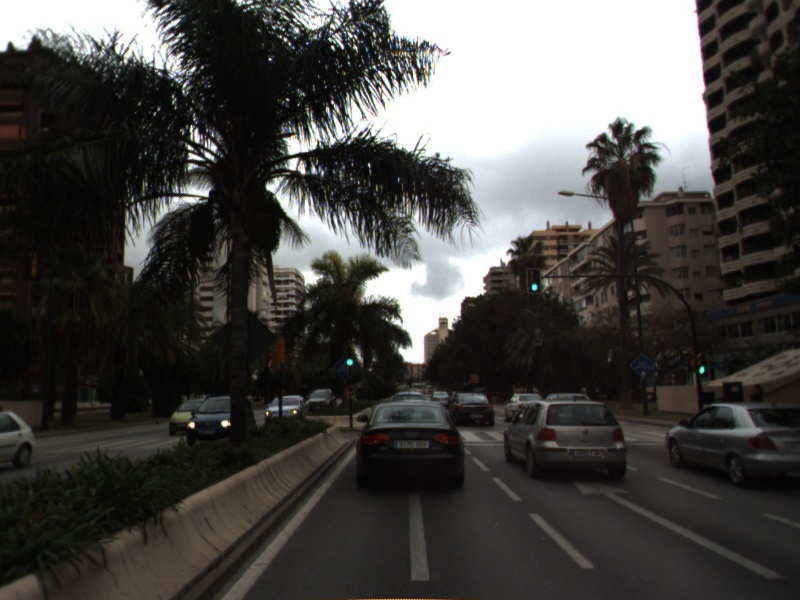STRAIGHT: (568, 476, 790, 584)
